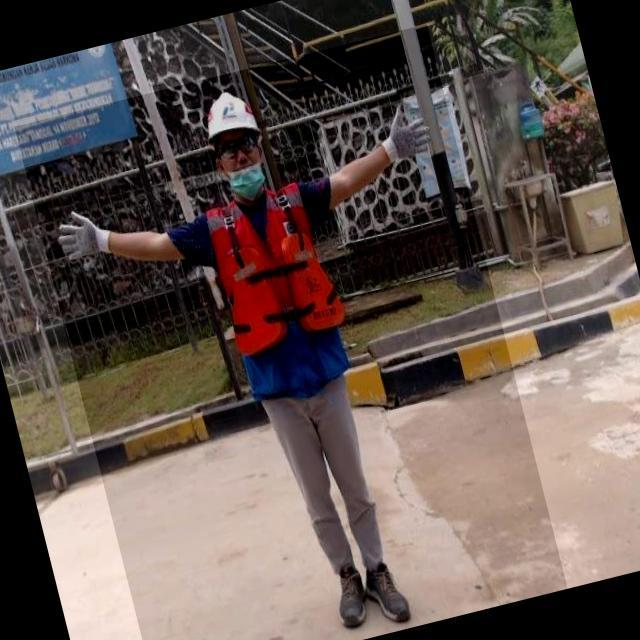Helmet: (194, 76, 272, 161)
Human: (14, 23, 567, 640)
Safety Boot: (355, 552, 421, 632), (323, 557, 379, 638)
Safety Vest: (195, 172, 363, 369)
